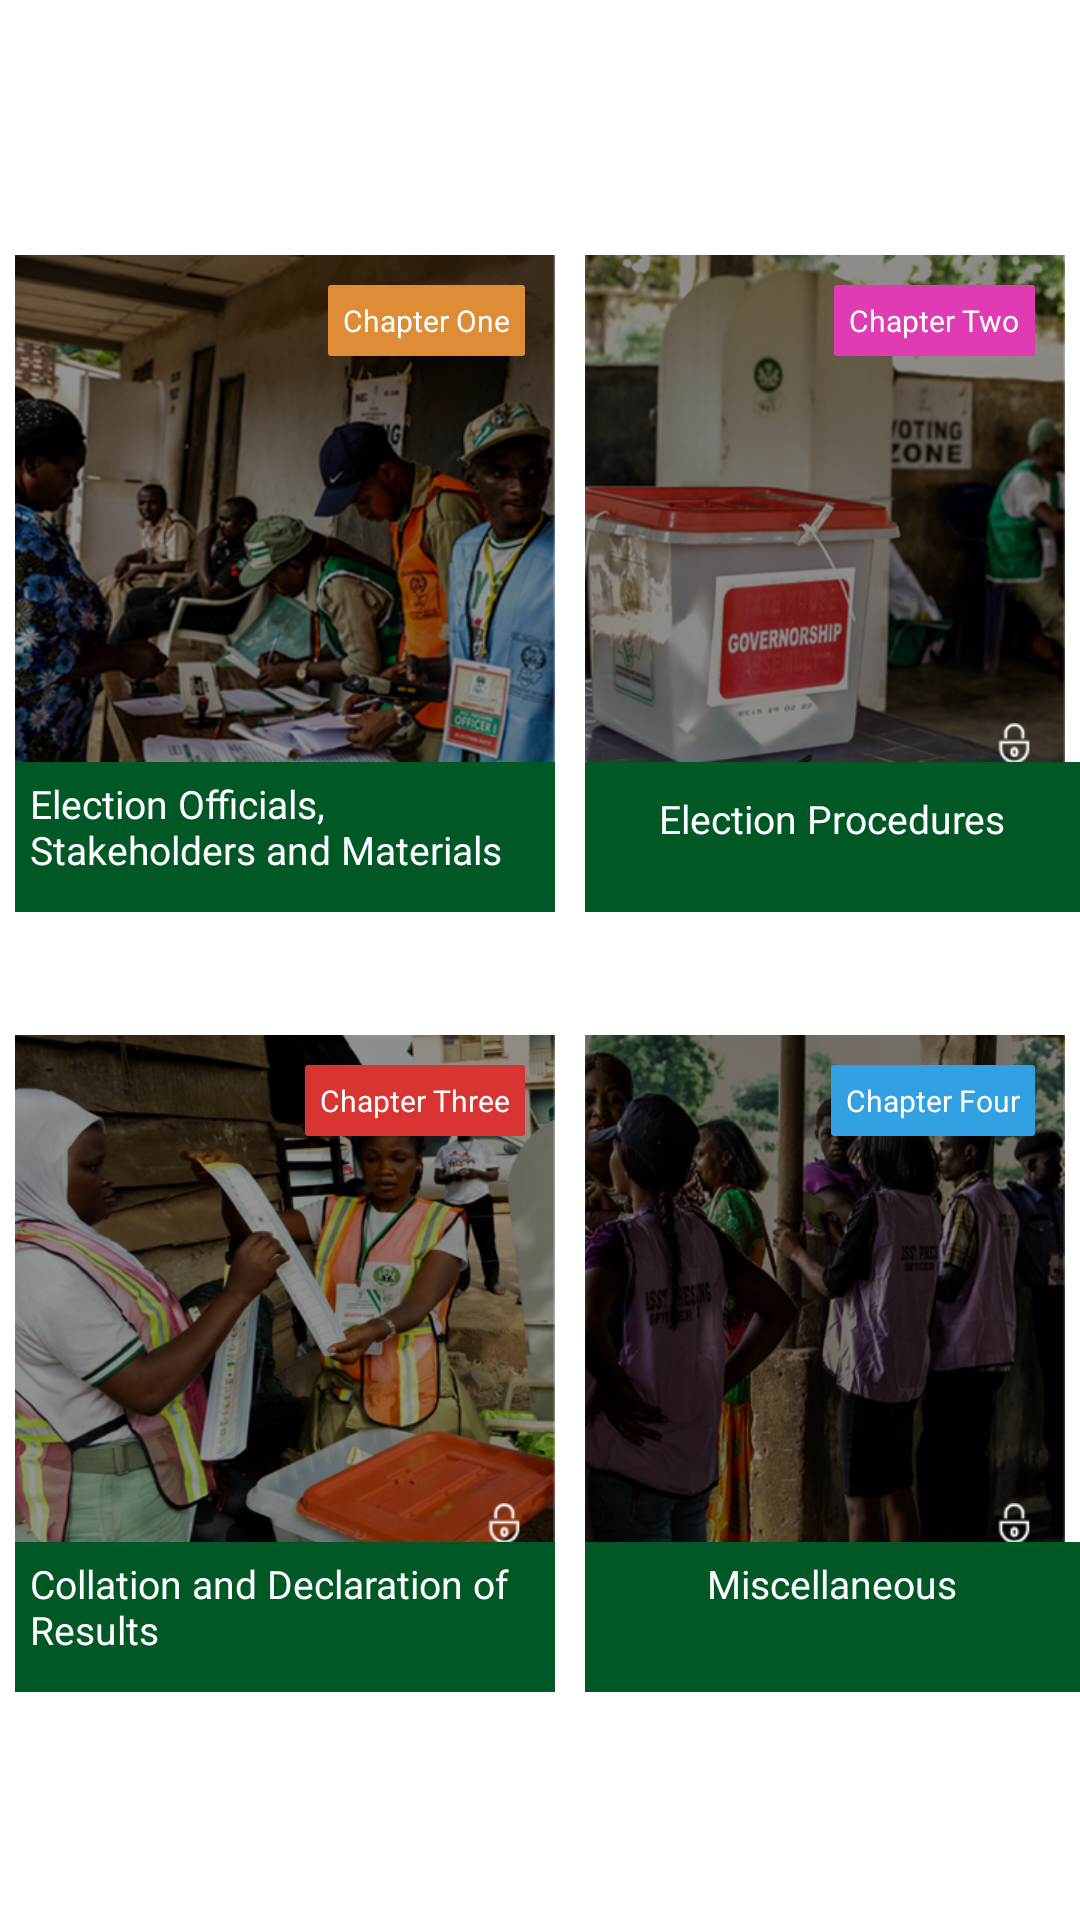

Named icons in this screenshot (1080px×1920px) and their centers, [x,y]:
padlock: [1014,744], [504,1524], [1014,1524]
